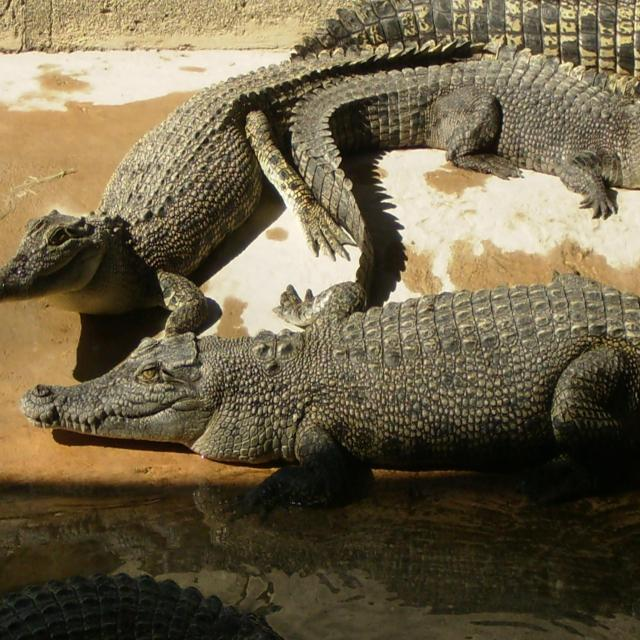crocodile: (0, 0, 640, 548)
